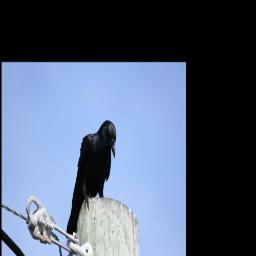Crow: (66, 120, 117, 241)
